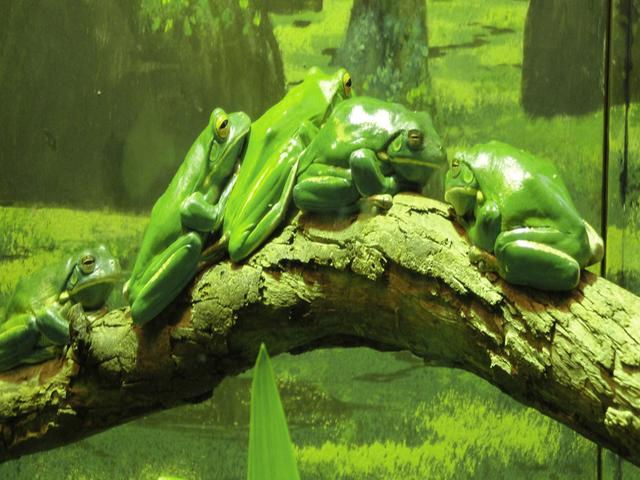frog: (296, 68, 502, 264), (135, 82, 266, 301)
